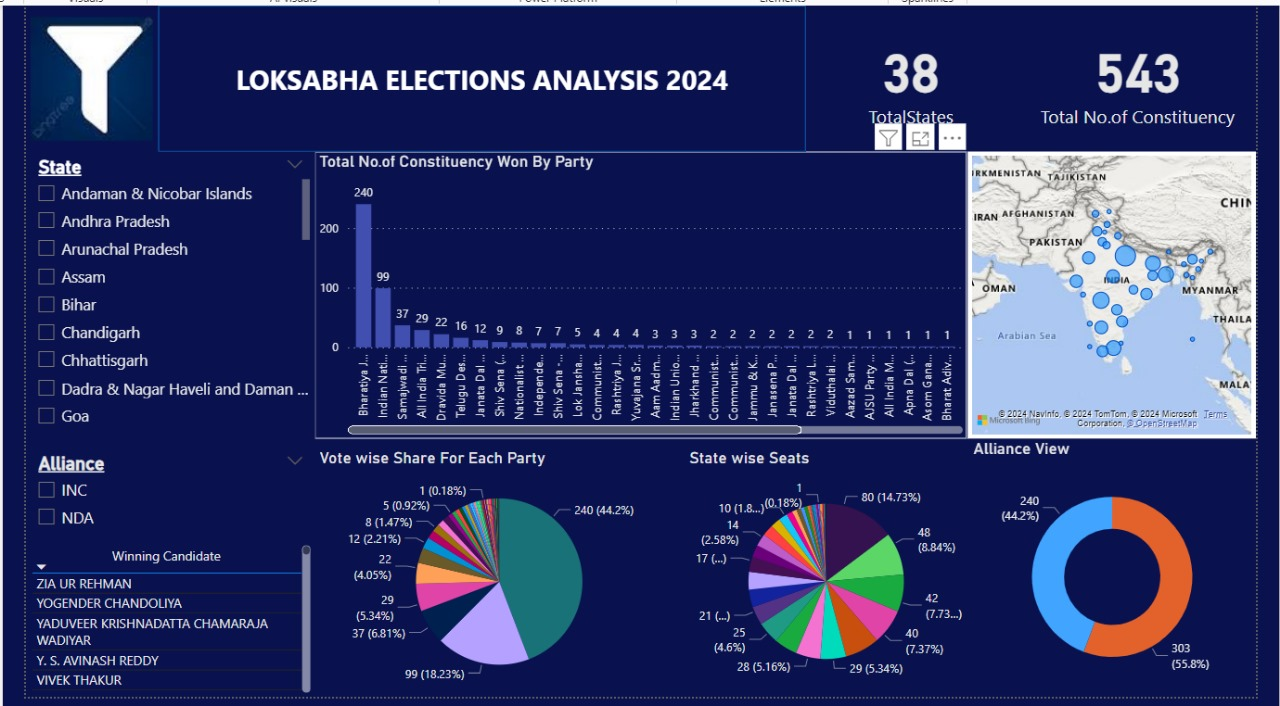

The page's visual inventory and layout, read from the dashboard file:
{"tool":"powerbi","page":{"name":"Project","canvas":[1280,720],"ordinal":0},"visuals":[{"type":"card","fields":{"Values":["Sheet1.TotalStates"]},"box":[811,0,220.9,152.3],"z":0},{"type":"card","fields":{"Values":["Sheet1.Total Constituency"]},"box":[1031.9,0,248.4,152.3],"z":1000},{"type":"map","fields":{"Category":["Sheet1.State"],"Size":["Sheet1.Total No.of Constituency"]},"box":[979.8,152.3,300.5,299.1],"z":2000},{"type":"clusteredColumnChart","title":"Total No.of Constituency Won By Party","fields":{"Category":["Sheet1.Party"],"Y":["Sheet1.Total No.of Constituency"]},"box":[300.5,152.3,679.2,299.1],"z":3000},{"type":"slicer","fields":{"Values":["Sheet1.State"]},"box":[0,152.3,300.5,299.1],"z":4000},{"type":"slicer","fields":{"Values":["Sheet1.Alliance"]},"box":[0,461.1,300.5,96.1],"z":5000},{"type":"pieChart","title":"Vote wise Share For Each Party","fields":{"Category":["Sheet1.Party"],"Y":["Sheet1.Total Votes"]},"box":[300.5,461.1,384.2,259.3],"z":6000},{"type":"tableEx","fields":{"Values":["Sheet1.Winning Candidate"]},"box":[0,557,301,163],"z":7000},{"type":"shape","title":"LOKSABHA ELECTIONS ANALYSIS 2024","box":[137.2,0,673.8,152.3],"z":7001},{"type":"pieChart","title":"State wise Seats","fields":{"Category":["Sheet1.State"],"Y":["Sheet1.Party"]},"box":[685,461,295,259],"z":7002},{"type":"image","box":[0,0,137.2,152.3],"z":7003},{"type":"donutChart","title":"Alliance View","fields":{"Category":["Sheet1.Alliance"],"Y":["Sheet1.Parliament Constituency"]},"box":[980.5,451.1,299.1,268.9],"z":7004}]}

Visuals, with their boxes in screenshot pixels (x1, y1, x2, y2):
card - Sheet1.TotalStates: l=798, t=0, r=1012, b=147
card - Sheet1.Total Constituency: l=1012, t=0, r=1253, b=147
map - Sheet1.State x Sheet1.Total No.of Constituency: l=962, t=147, r=1253, b=437
"Total No.of Constituency Won By Party" clusteredColumnChart: l=304, t=147, r=962, b=437
slicer - Sheet1.State: l=13, t=147, r=304, b=437
slicer - Sheet1.Alliance: l=13, t=446, r=304, b=539
"Vote wise Share For Each Party" pieChart: l=304, t=446, r=676, b=697
tableEx - Sheet1.Winning Candidate: l=13, t=539, r=305, b=697
"LOKSABHA ELECTIONS ANALYSIS 2024" shape: l=146, t=0, r=798, b=147
"State wise Seats" pieChart: l=676, t=446, r=962, b=697
image: l=13, t=0, r=146, b=147
"Alliance View" donutChart: l=962, t=437, r=1252, b=697
